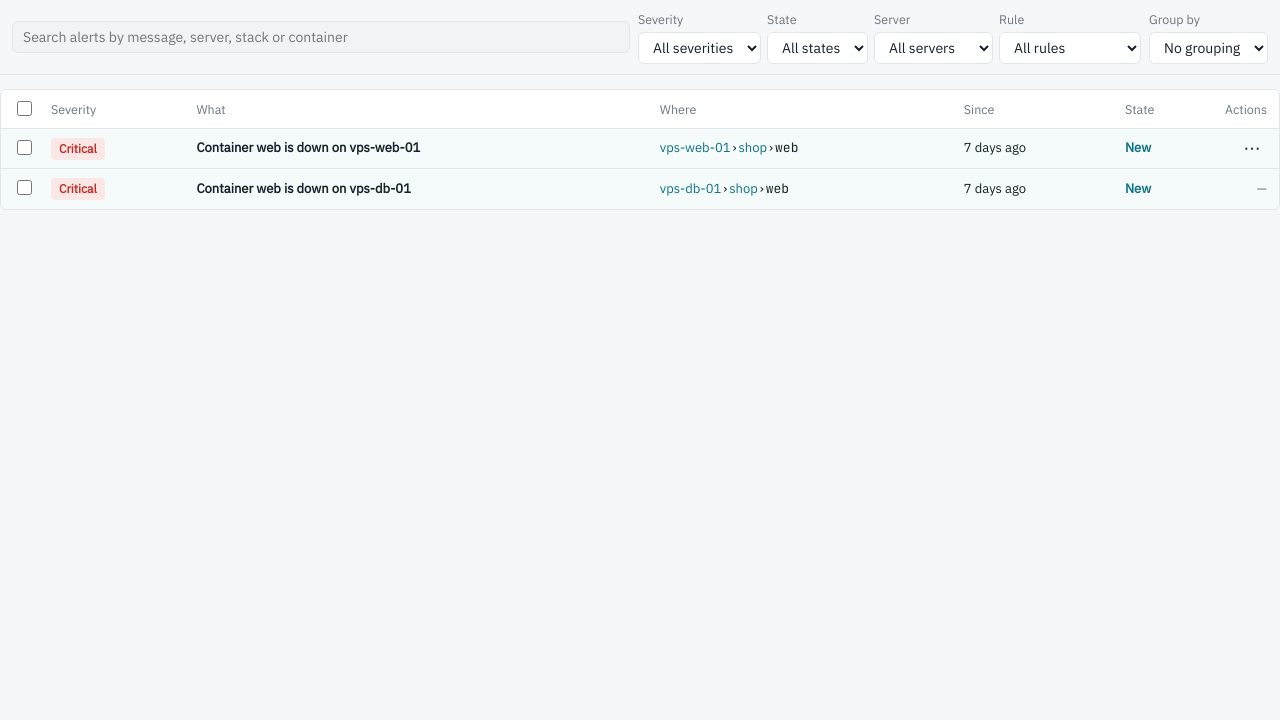
Inbox › reports and skips alerts outside the permission scope
Step 1. Click the checkbox named "Select all" → x=24, y=109, box [17, 101, 32, 116]
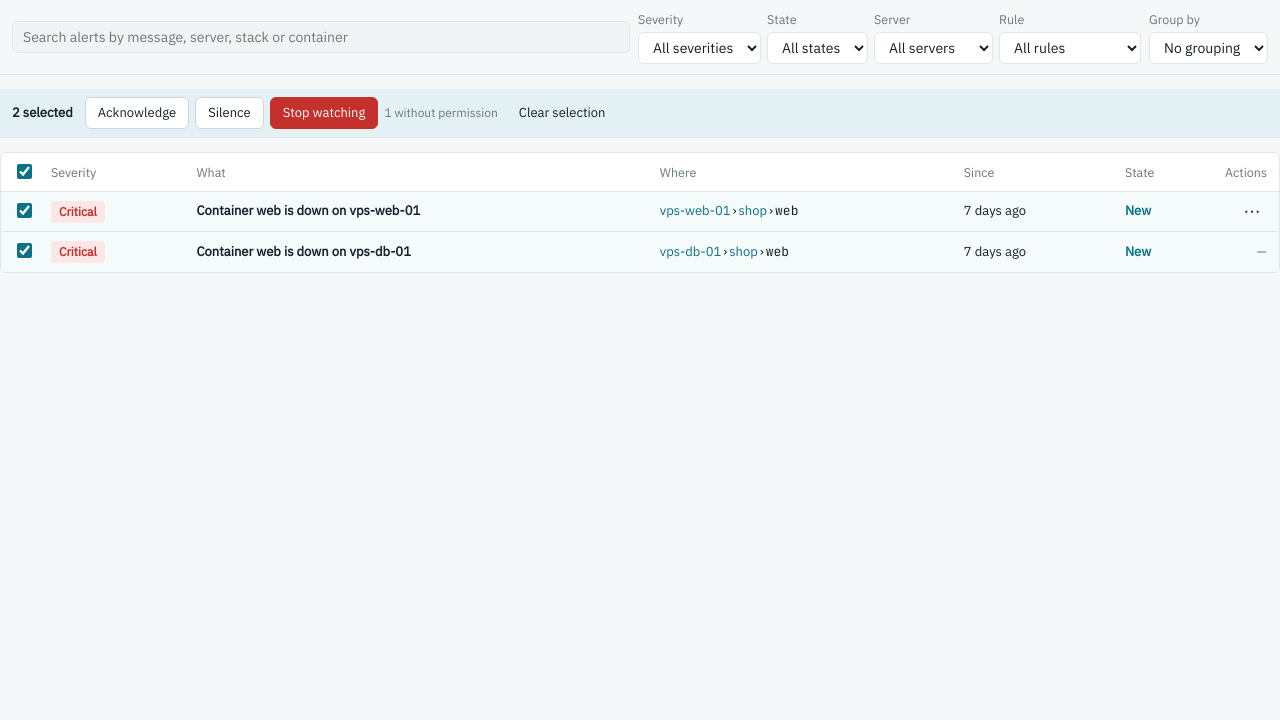
Now the text "1 without permission" is shown, box [384, 104, 498, 122]
Step 2. Click the button "Acknowledge" → x=137, y=113, box [85, 97, 189, 129]
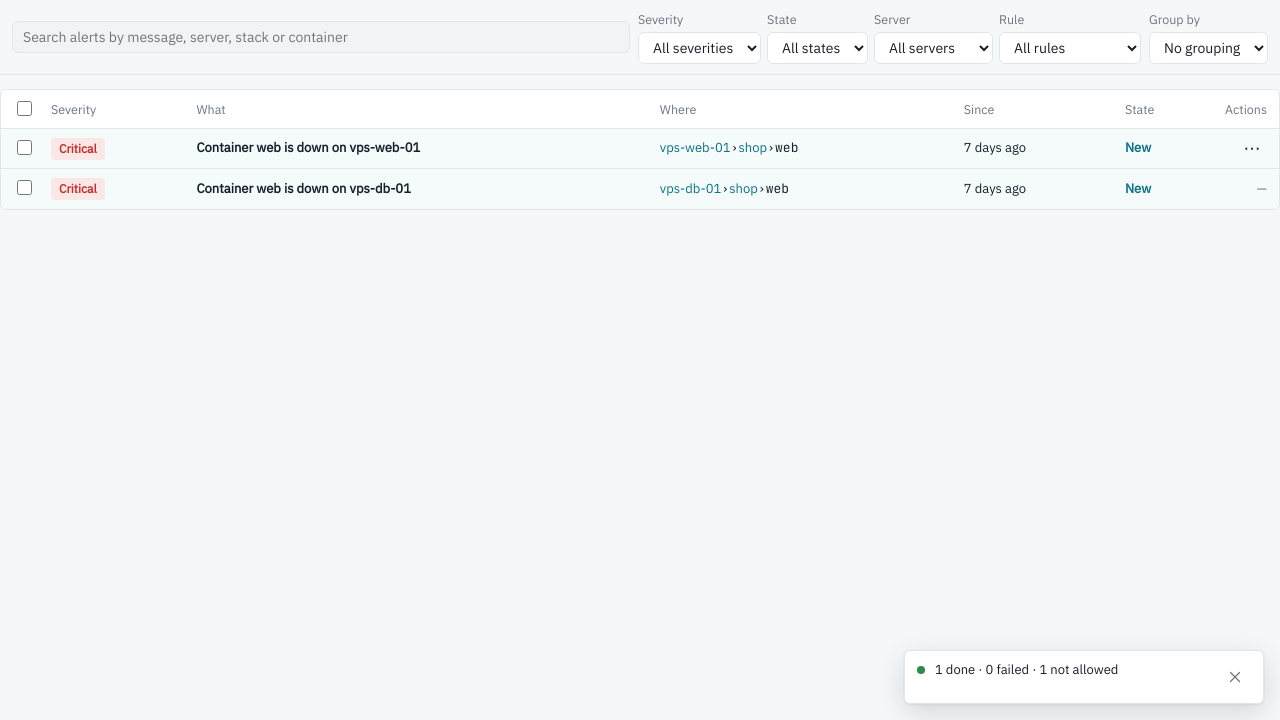
Now the text "1 done · 0 failed · 1 not allowed" is shown, box [935, 661, 1118, 678]
